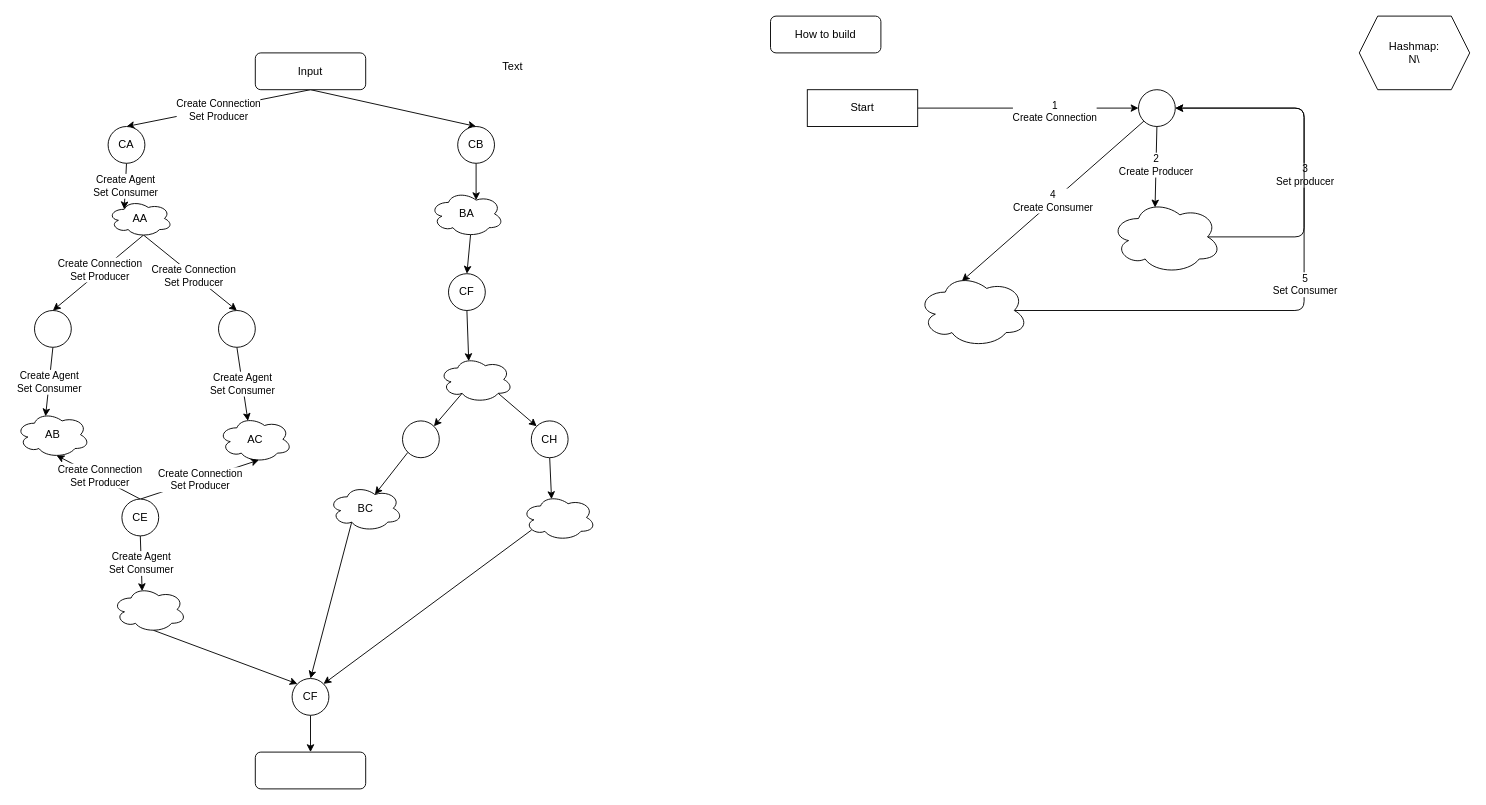
The diagram is 1486 pixels wide and 805 high, and some of its shapes have lost their labels. The centre of each missing label's shape, as x and y in pixels:
"AD" goes at (x=149, y=609).
"BB" goes at (x=475, y=379).
"BD" goes at (x=558, y=517).
"CC" goes at (x=52, y=328).
"CD" goes at (x=236, y=328).
"CG" goes at (x=420, y=439).
"Output" goes at (x=310, y=770).
